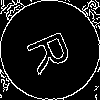R: (25, 25, 82, 76)
